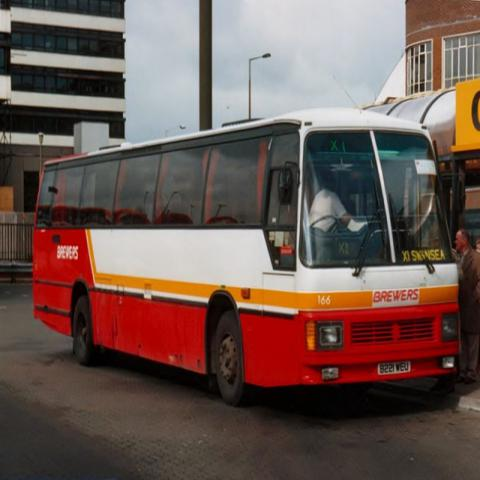bus: (32, 103, 462, 404)
